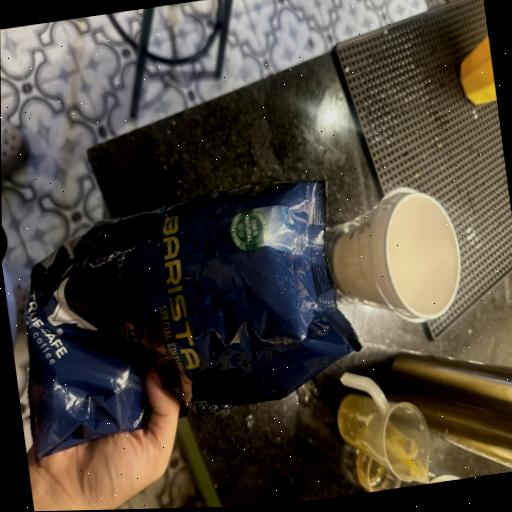cafe_hat: (25, 180, 360, 460)
